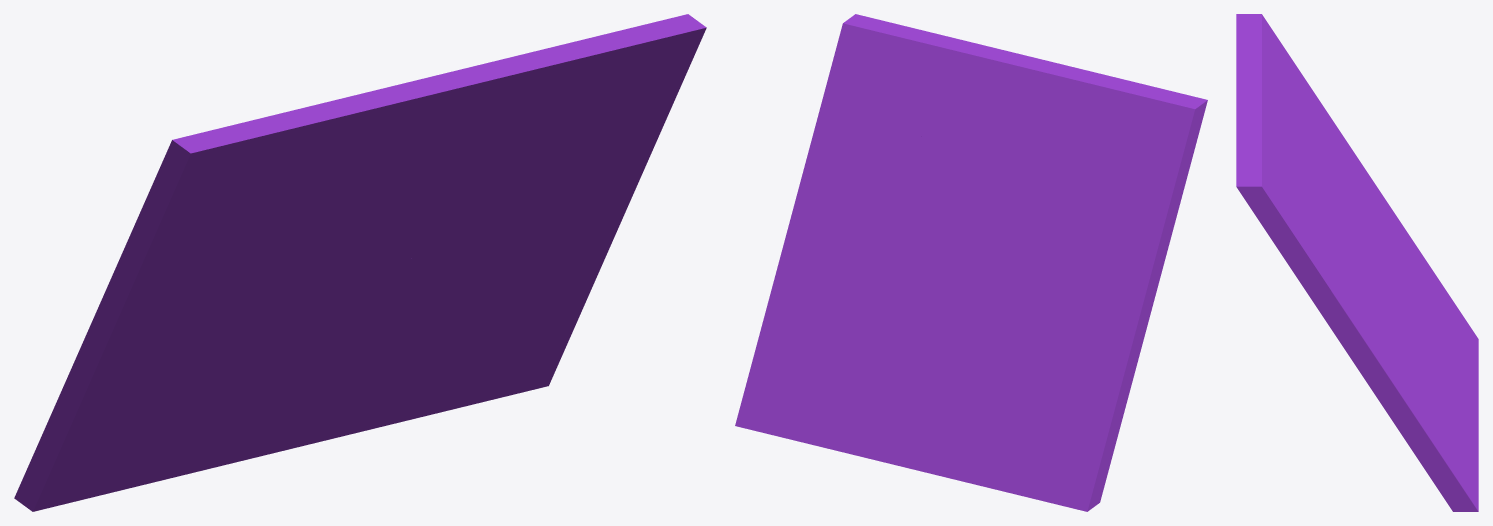
Rendered from Window_32_chunks.fbx.
3 renders of one model, left to right at view 1: azimuth 30°, elevation 25°; view 2: azimuth 150°, elevation 25°; view 3: azimuth 270°, elevation 25°, orthographic. The views are drawn at different scales.
Visible parts, largest first — view 1: Window_32_1, Window_32_3, Window_32_0, Window_32_5, Window_32_8, Window_32_7, Window_32_24, Window_32_21, Window_32_11, Window_32_4, Window_32_2, Window_32_10 (+10 smaller); view 2: Window_32_0, Window_32_12, Window_32_11, Window_32_5, Window_32_17, Window_32_3, Window_32_16, Window_32_14, Window_32_1, Window_32_2, Window_32_18, Window_32_13 (+10 smaller); view 3: Window_32_11, Window_32_5, Window_32_12, Window_32_0, Window_32_24, Window_32_17, Window_32_18, Window_32_3, Window_32_8, Window_32_21, Window_32_16, Window_32_14 (+10 smaller).
Boxes of the visible parts, <box> form: Window_32_1: <box>18,301,227,511</box>; Window_32_3: <box>190,256,424,473</box>; Window_32_0: <box>94,136,261,320</box>; Window_32_5: <box>420,196,632,314</box>; Window_32_8: <box>176,101,354,220</box>; Window_32_7: <box>298,100,410,246</box>; Window_32_24: <box>534,14,706,106</box>; Window_32_21: <box>423,51,558,175</box>; Window_32_11: <box>521,96,676,214</box>; Window_32_4: <box>396,292,589,359</box>; Window_32_2: <box>216,235,352,328</box>; Window_32_10: <box>400,169,565,261</box>; Window_32_0: <box>1063,106,1198,308</box>; Window_32_12: <box>930,61,1085,257</box>; Window_32_11: <box>792,63,933,233</box>; Window_32_5: <box>760,211,933,331</box>; Window_32_17: <box>831,324,972,483</box>; Window_32_3: <box>892,257,976,484</box>; Window_32_16: <box>965,295,1043,476</box>; Window_32_14: <box>976,400,1092,511</box>; Window_32_1: <box>1080,289,1157,509</box>; Window_32_2: <box>963,179,1071,301</box>; Window_32_18: <box>735,373,860,456</box>; Window_32_13: <box>1030,280,1087,415</box>; Window_32_11: <box>1277,207,1365,339</box>; Window_32_5: <box>1338,277,1427,436</box>; Window_32_12: <box>1236,67,1363,251</box>; Window_32_0: <box>1256,14,1371,208</box>; Window_32_24: <box>1236,131,1287,243</box>; Window_32_17: <box>1408,346,1478,449</box>; Window_32_18: <box>1435,422,1478,511</box>; Window_32_3: <box>1368,264,1478,394</box>; Window_32_8: <box>1236,14,1298,106</box>; Window_32_21: <box>1236,91,1312,207</box>; Window_32_16: <box>1381,262,1474,387</box>; Window_32_14: <box>1427,278,1478,392</box>.
Bounding box in the file's own units: 1059 × 930 × 628.
